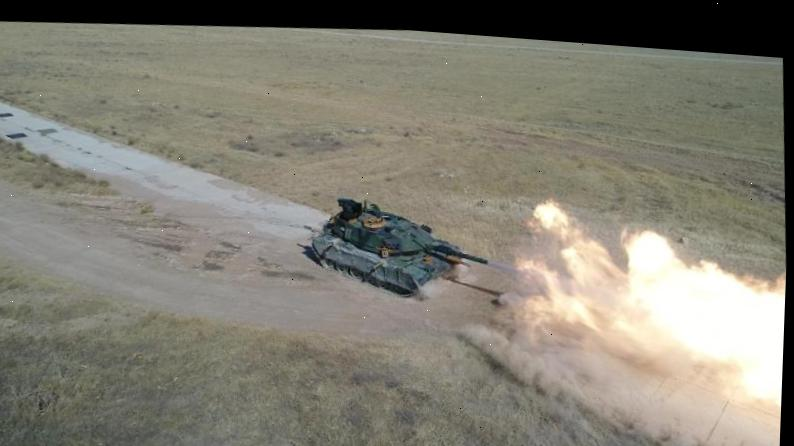tank: (298, 185, 493, 311)
